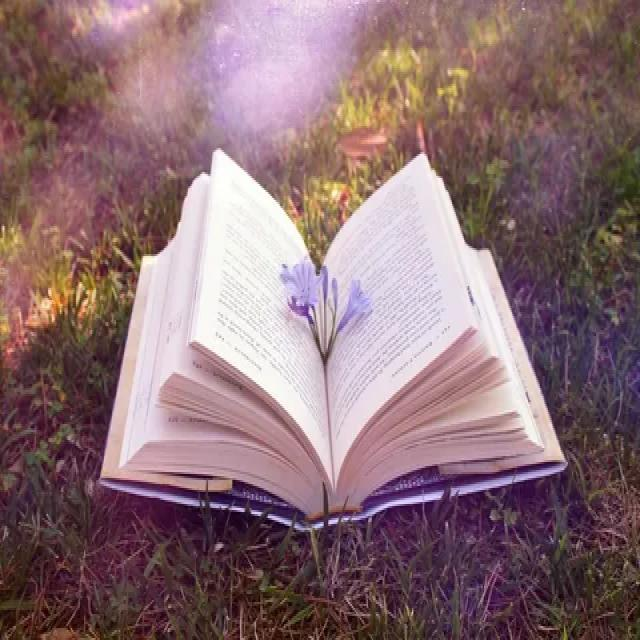book: (92, 132, 576, 552)
